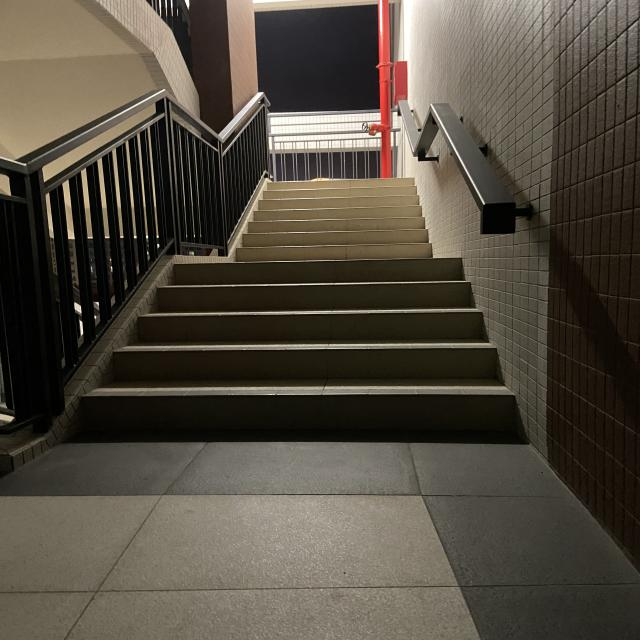Stairs: (81, 237, 555, 459), (215, 155, 448, 269)
